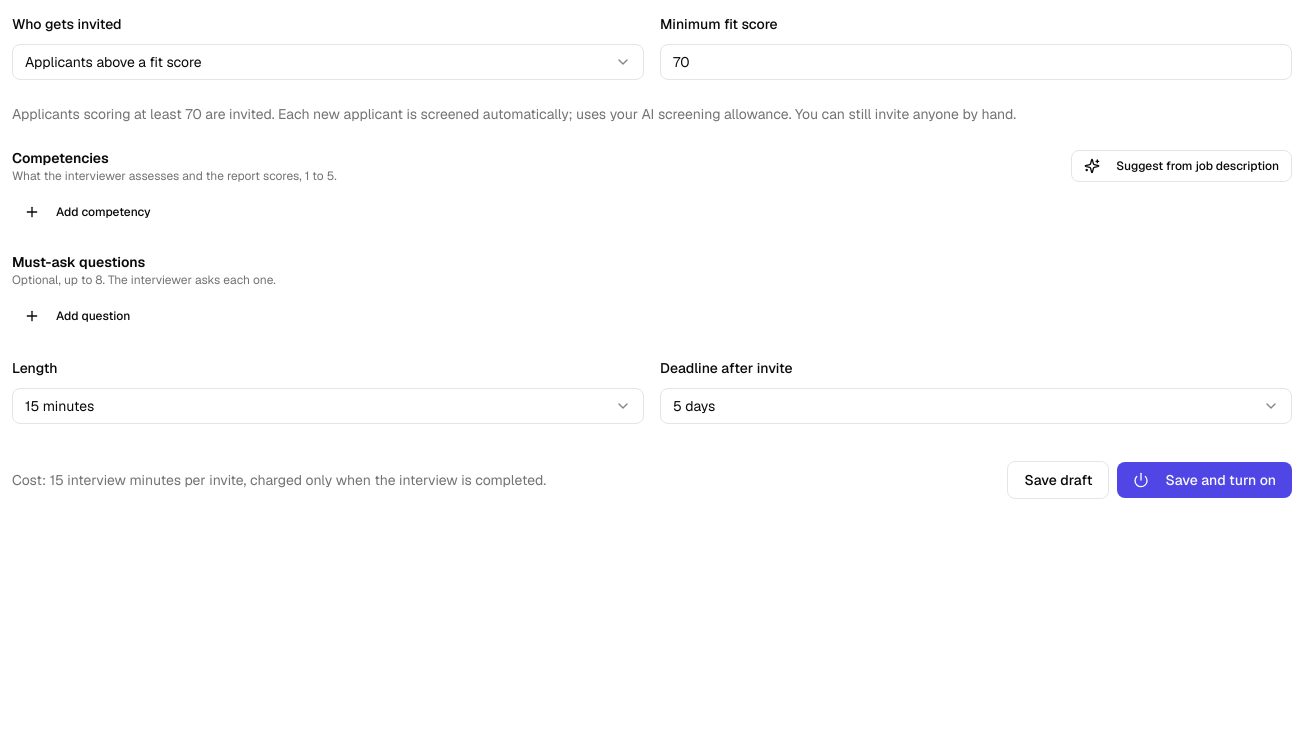
it: InterviewConfigSection (SIT-060) › stays off when turning on fails
This screenshot has width=1304, height=732.
Click the button "Save and turn on" at (1205, 480), box [1118,462,1292,498]
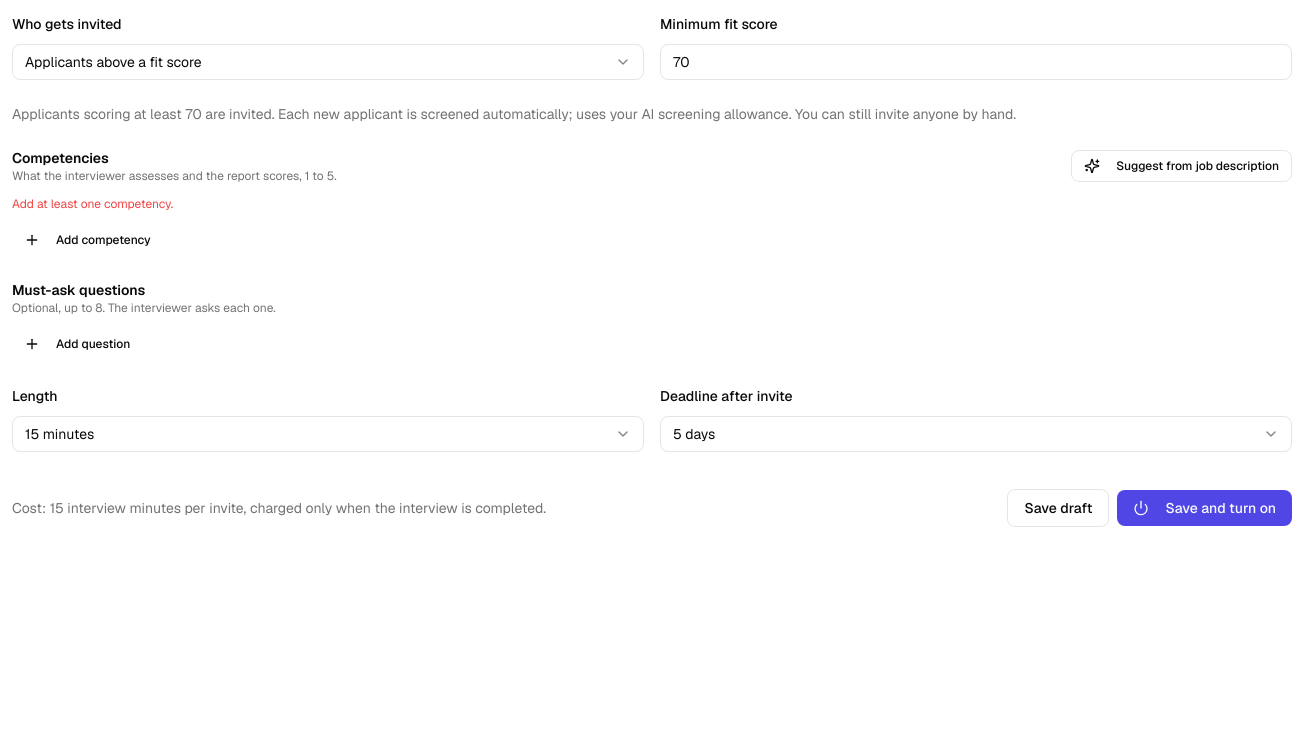
Expected: the button "Save and turn on" is shown, [1118,490,1292,526]
Result: the text "Add at least one competency." is shown at [12,196,173,212]
